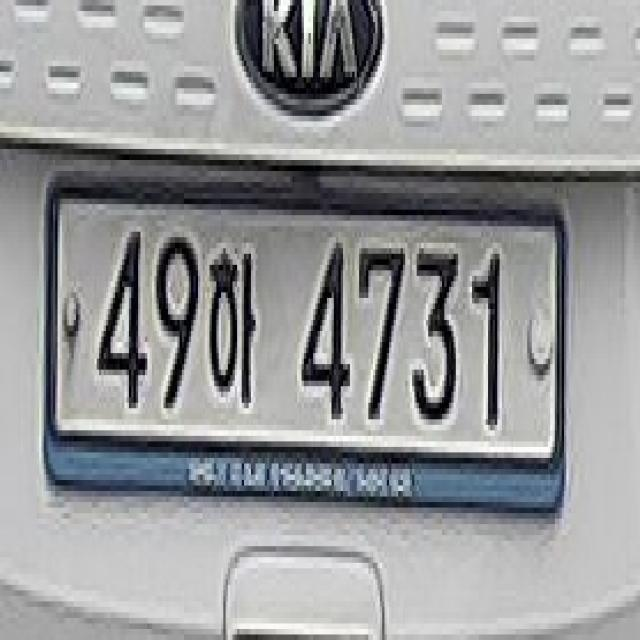1: (470, 235, 507, 440)
3: (411, 235, 465, 428)
4: (90, 227, 150, 416), (297, 234, 355, 428)
7: (358, 240, 405, 434)
9: (154, 238, 202, 408)
ha: (210, 231, 262, 428)
license_plate: (34, 170, 578, 524)
